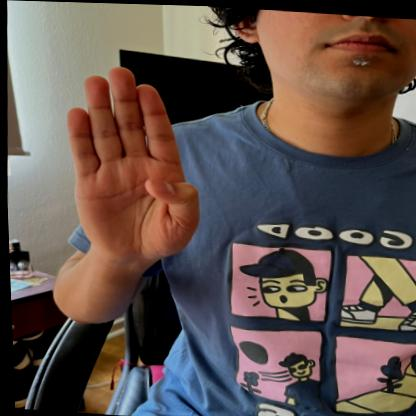B: (57, 59, 207, 263)
